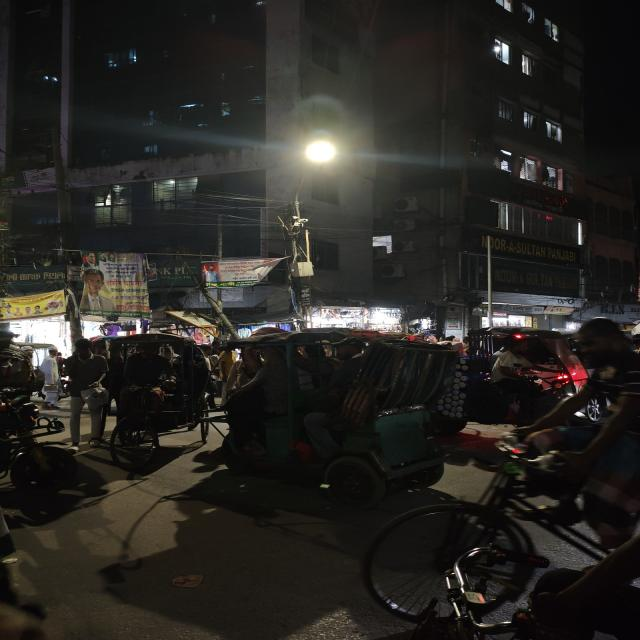pedestrian: (61, 337, 110, 448)
rickshaw: (216, 332, 476, 512), (112, 333, 214, 480)
